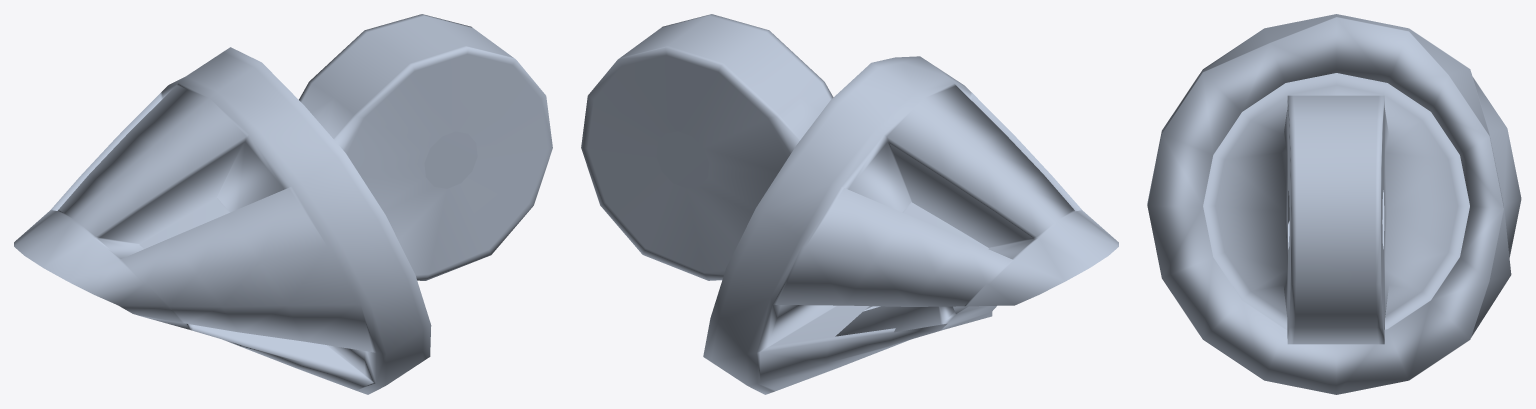
Rendered from leftClavicle.dae.
The picture shows the model from 3 angles, left to right: view 1: azimuth 30°, elevation 25°; view 2: azimuth 150°, elevation 25°; view 3: azimuth 270°, elevation 25°; orthographic projection.
Visible parts, largest first — view 1: Circle_160; view 2: Circle_160; view 3: Circle_160.
Part boxes in pixels (bbox=[...]): Circle_160: bbox=[14, 14, 552, 394]; Circle_160: bbox=[581, 14, 1118, 394]; Circle_160: bbox=[1147, 14, 1521, 394].
Size of the model in its own units: 3.3 by 2.1 by 2.09.
